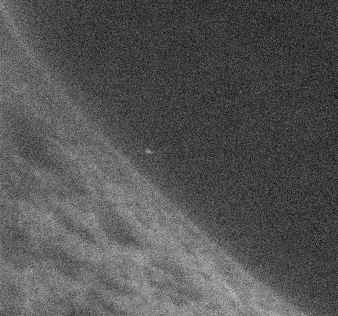dim target: (143, 147, 152, 156)
